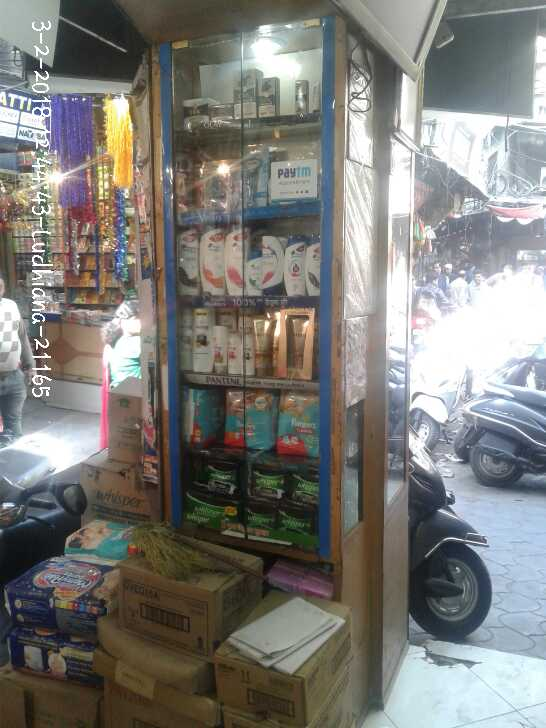venus: (243, 147, 270, 205)
